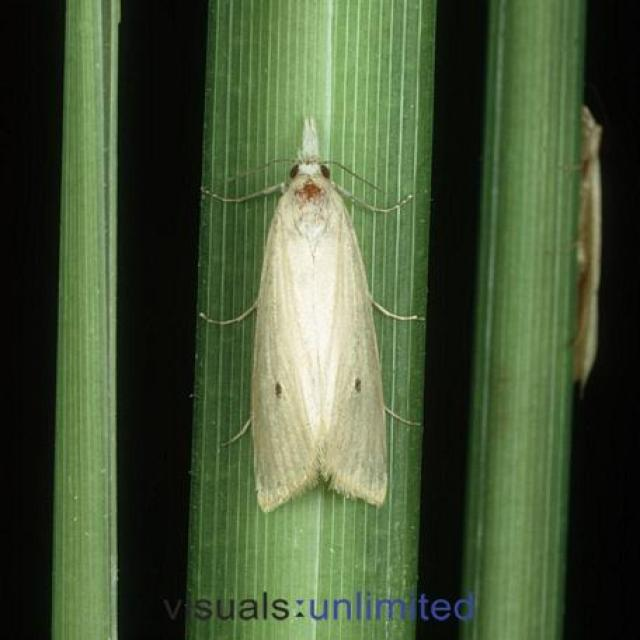yellow-stem-borer: (169, 108, 473, 526)
